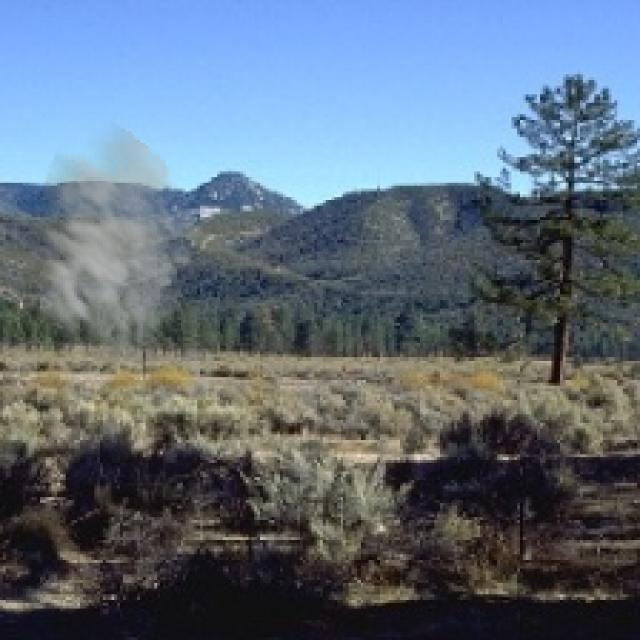Smoke: (3, 117, 206, 374)
